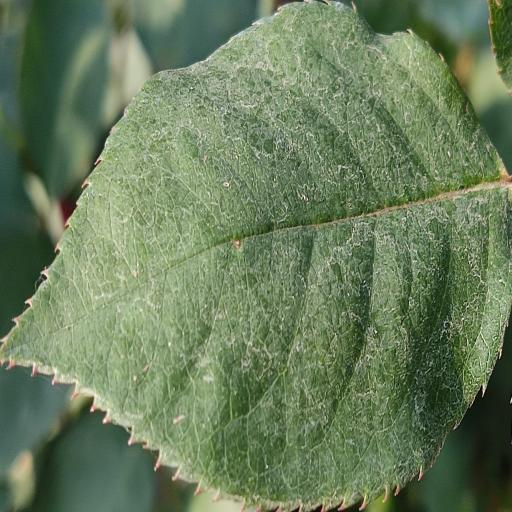healthy_leaf: (0, 0, 512, 510)
